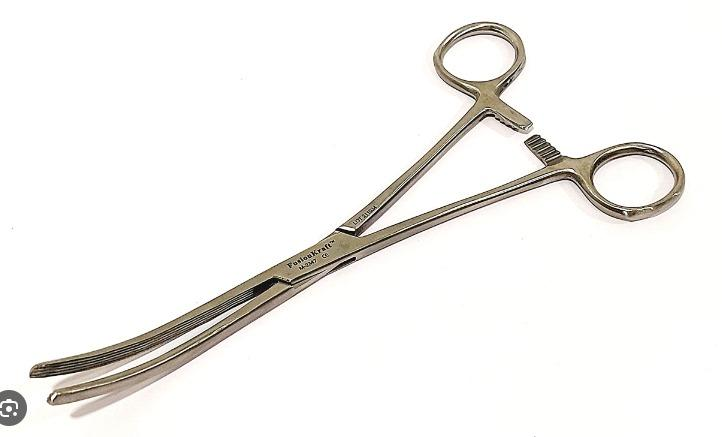Doyel Instestinal Forceps: (28, 20, 691, 406)
